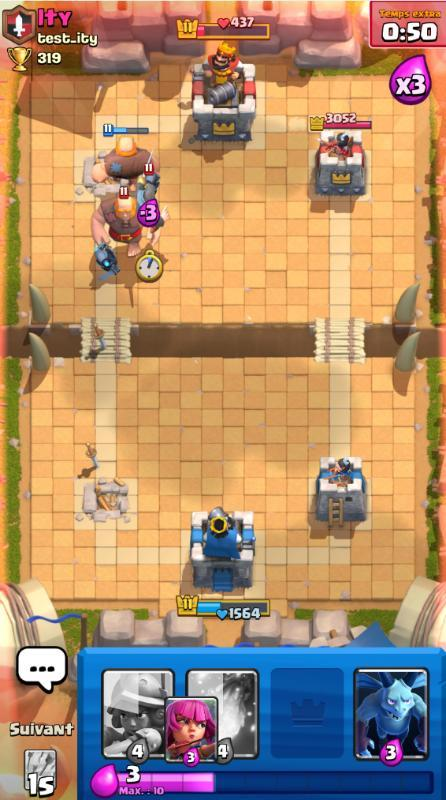chevalier: (136, 146, 171, 229)
geant: (91, 186, 161, 258), (92, 123, 160, 192)
mini_PEKKA: (94, 242, 121, 281), (143, 164, 161, 194)
